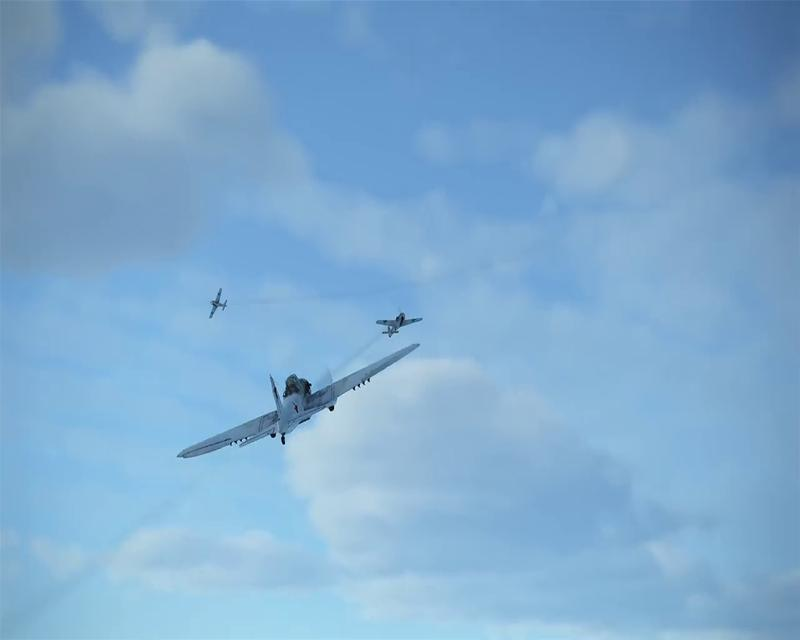UAV: (176, 342, 421, 459), (374, 313, 422, 338), (208, 288, 229, 319)
